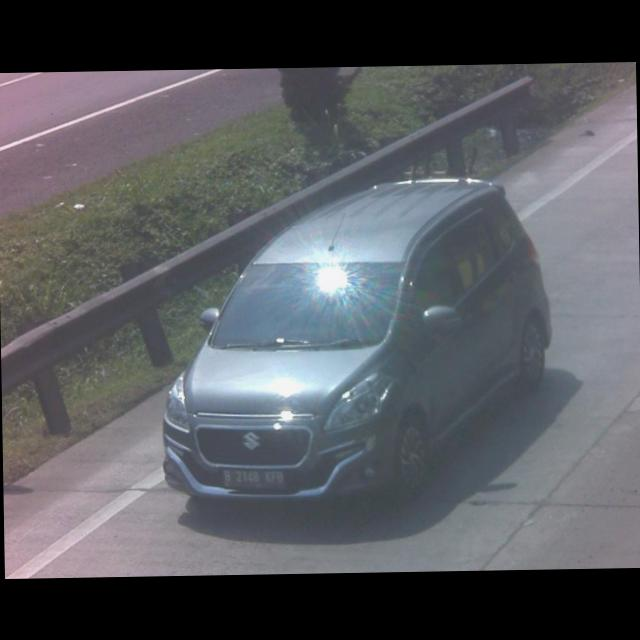plate: (218, 468, 284, 490)
